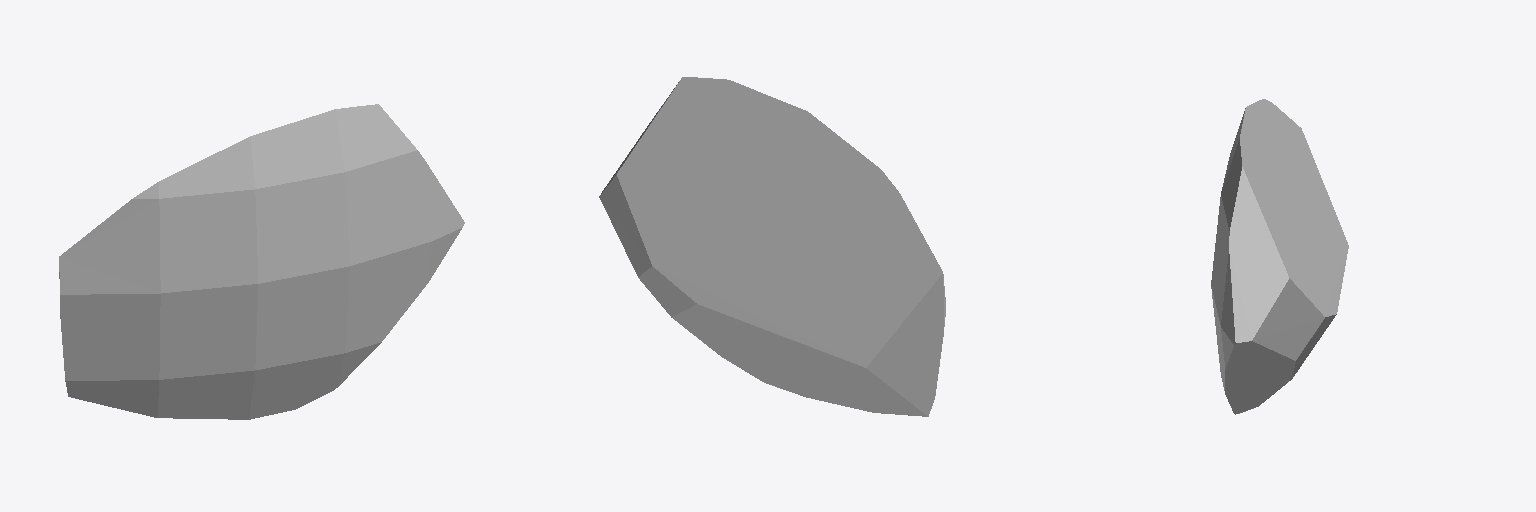
The model's file is Sphere_Cell_Fracture22.obj.
The picture shows the model from 3 angles: view 1: azimuth 30°, elevation 25°; view 2: azimuth 150°, elevation 25°; view 3: azimuth 270°, elevation 25°; orthographic projection.
Bounding box in the file's own units: 0.8434 × 0.6341 × 0.2695.